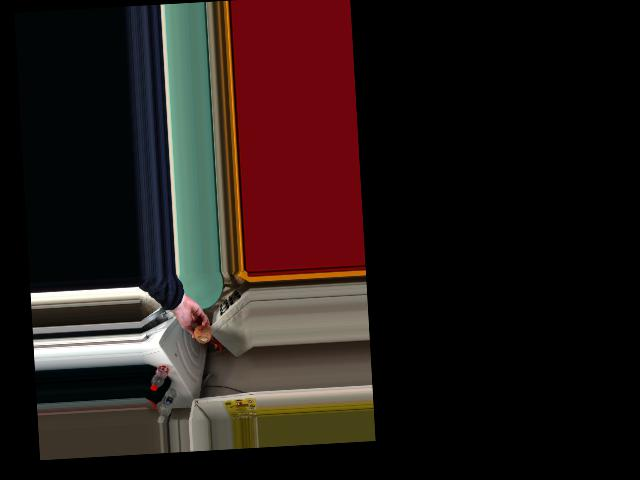sweet_potato: (193, 322, 210, 343)
